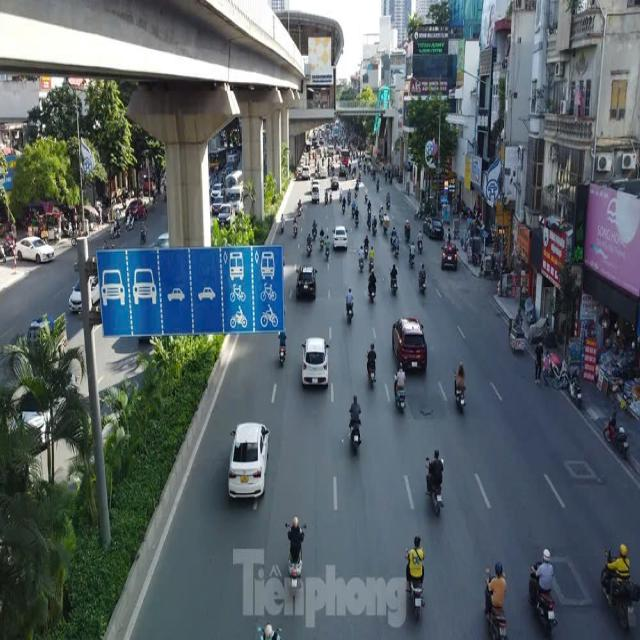car: (225, 417, 273, 498), (393, 313, 427, 367), (304, 331, 326, 388), (294, 257, 316, 303), (423, 202, 445, 242), (442, 237, 459, 274), (333, 223, 347, 254), (308, 186, 320, 206), (331, 173, 341, 190)
motobyte: (597, 541, 640, 626), (529, 540, 558, 638), (478, 561, 513, 640), (284, 519, 311, 592), (422, 444, 448, 519), (404, 536, 428, 617), (605, 413, 633, 460), (347, 394, 363, 452), (454, 358, 468, 412), (393, 361, 407, 412), (366, 345, 377, 388), (390, 262, 399, 295), (279, 328, 286, 368), (347, 286, 354, 323), (369, 269, 377, 301), (419, 264, 428, 291), (408, 241, 416, 268), (417, 228, 424, 252), (382, 211, 389, 234), (358, 245, 364, 271), (392, 225, 398, 251), (405, 218, 412, 240), (372, 213, 378, 236), (354, 205, 360, 228), (367, 210, 373, 230), (395, 236, 400, 258), (325, 236, 330, 258), (297, 199, 303, 216), (370, 247, 374, 271), (312, 221, 317, 240), (307, 235, 312, 254), (364, 235, 368, 258), (351, 201, 356, 219), (320, 228, 324, 250), (293, 218, 298, 235), (342, 196, 346, 216), (346, 188, 351, 204), (280, 213, 284, 231), (364, 188, 368, 204), (380, 206, 384, 222), (358, 170, 362, 184), (368, 200, 372, 213), (386, 193, 389, 209), (376, 178, 379, 193), (354, 189, 358, 200), (355, 177, 359, 188), (325, 191, 328, 205), (330, 188, 333, 202), (339, 189, 342, 202), (373, 167, 376, 180)
